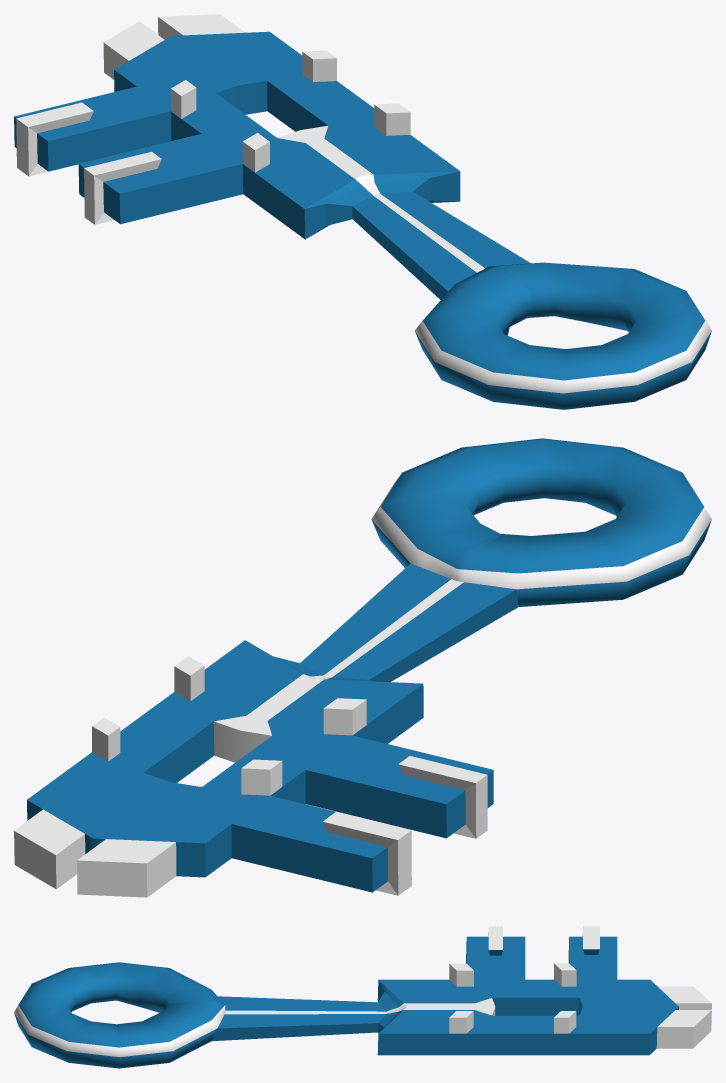
Rendered from LlaveX.fbx.
3 renders of one model, top to bottom at view 1: azimuth 30°, elevation 25°; view 2: azimuth 150°, elevation 25°; view 3: azimuth 270°, elevation 25°, orthographic. The views are drawn at different scales.
Parts seen in each view (by area): view 1: Torus001; view 2: Torus001; view 3: Torus001.
Boxes of the visible parts, left/top/right/bottom form: Torus001: left=14, top=14, right=711, bottom=409; Torus001: left=14, top=438, right=711, bottom=897; Torus001: left=14, top=926, right=711, bottom=1068.
Size of the model in its own units: 32.16 by 5.64 by 80.21.
